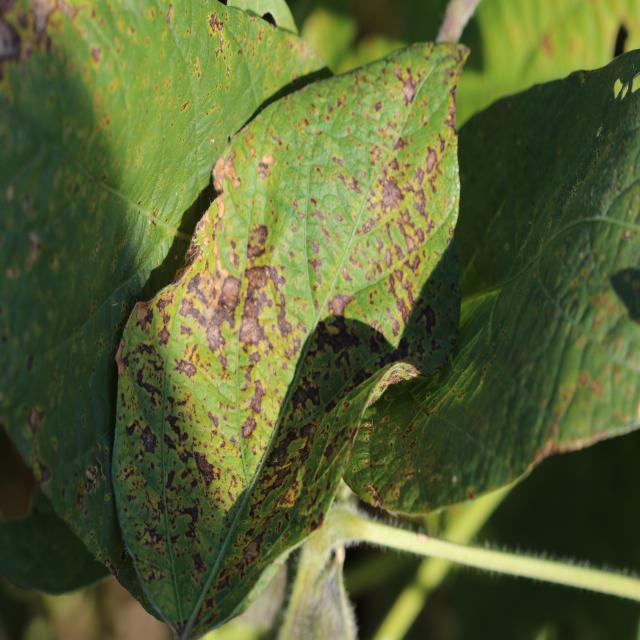Bacterial_Blight: (311, 313, 381, 391), (260, 420, 312, 492), (0, 6, 23, 61), (241, 223, 271, 262), (134, 364, 164, 403), (29, 0, 59, 39), (377, 173, 406, 213), (288, 376, 320, 412), (192, 450, 218, 485), (411, 186, 432, 222), (239, 315, 262, 347), (417, 303, 437, 338), (220, 275, 241, 308), (328, 293, 355, 317), (25, 232, 42, 268), (206, 321, 225, 353), (164, 413, 185, 438), (140, 424, 158, 453), (32, 459, 51, 486), (173, 358, 197, 379), (179, 503, 200, 526), (207, 11, 224, 36), (243, 540, 260, 565), (400, 78, 416, 104), (401, 419, 419, 441), (28, 407, 43, 433), (135, 302, 151, 326), (349, 425, 361, 457), (241, 416, 257, 439), (84, 464, 98, 489), (425, 147, 438, 173), (541, 33, 555, 57), (366, 483, 382, 504), (444, 111, 457, 133), (257, 160, 272, 179), (104, 559, 118, 577), (90, 46, 102, 64), (26, 353, 34, 371), (579, 372, 589, 386), (180, 99, 190, 112), (466, 487, 476, 500), (373, 100, 382, 112), (623, 229, 632, 240), (404, 471, 413, 481), (503, 242, 510, 251), (151, 217, 157, 227), (527, 221, 533, 229)
Soybean: (112, 43, 469, 638)
